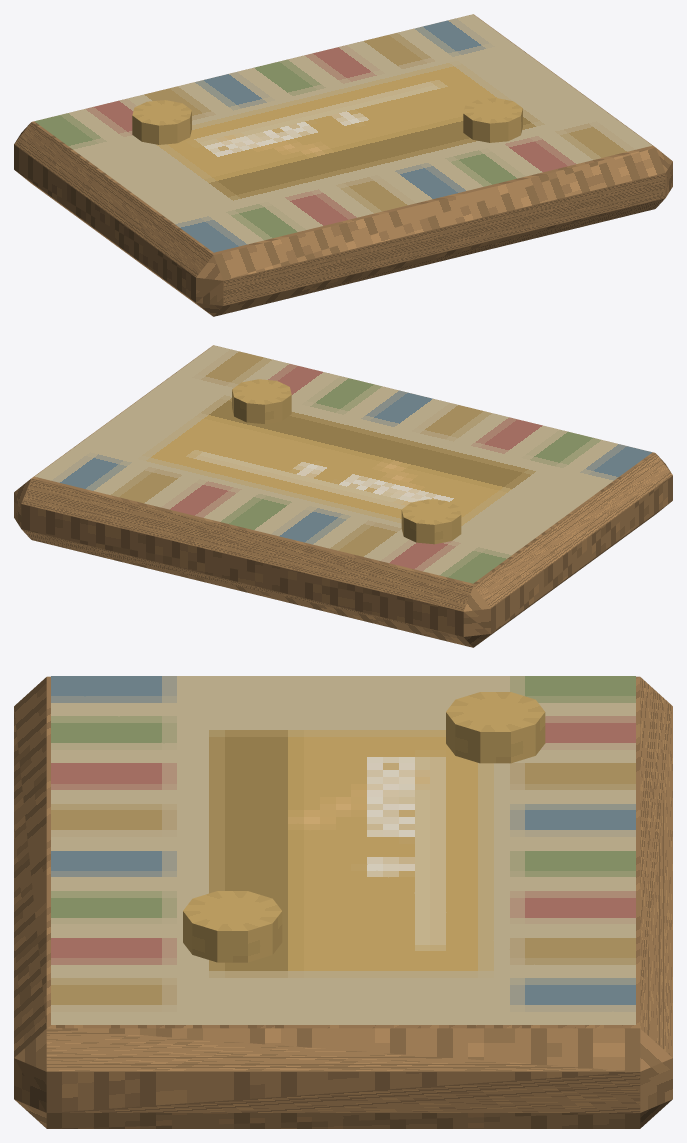
File: pictionary.glb
The picture shows the model from 3 angles, top to bottom: view 1: azimuth 30°, elevation 25°; view 2: azimuth 150°, elevation 25°; view 3: azimuth 270°, elevation 25°; orthographic projection. The views are drawn at different scales.
Parts seen in each view (by area): view 1: block_printed game board, block_board game base, block_move counter (×2); view 2: block_printed game board, block_board game base, block_move counter (×2); view 3: block_printed game board, block_board game base, block_move counter (×2).
Part boxes in pixels (x1,y1,x2,y2): block_printed game board: (35, 14, 651, 252); block_board game base: (14, 14, 672, 316); block_move counter (×2): (132, 98, 522, 144); block_printed game board: (35, 345, 651, 583); block_board game base: (14, 345, 672, 647); block_move counter (×2): (232, 379, 461, 544); block_printed game board: (51, 676, 635, 1024); block_board game base: (14, 676, 672, 1128); block_move counter (×2): (183, 692, 545, 962).
Size of the model in its own units: 0.1508 by 0.0248 by 0.1107.
Materials: 1 (1 with a texture image).
